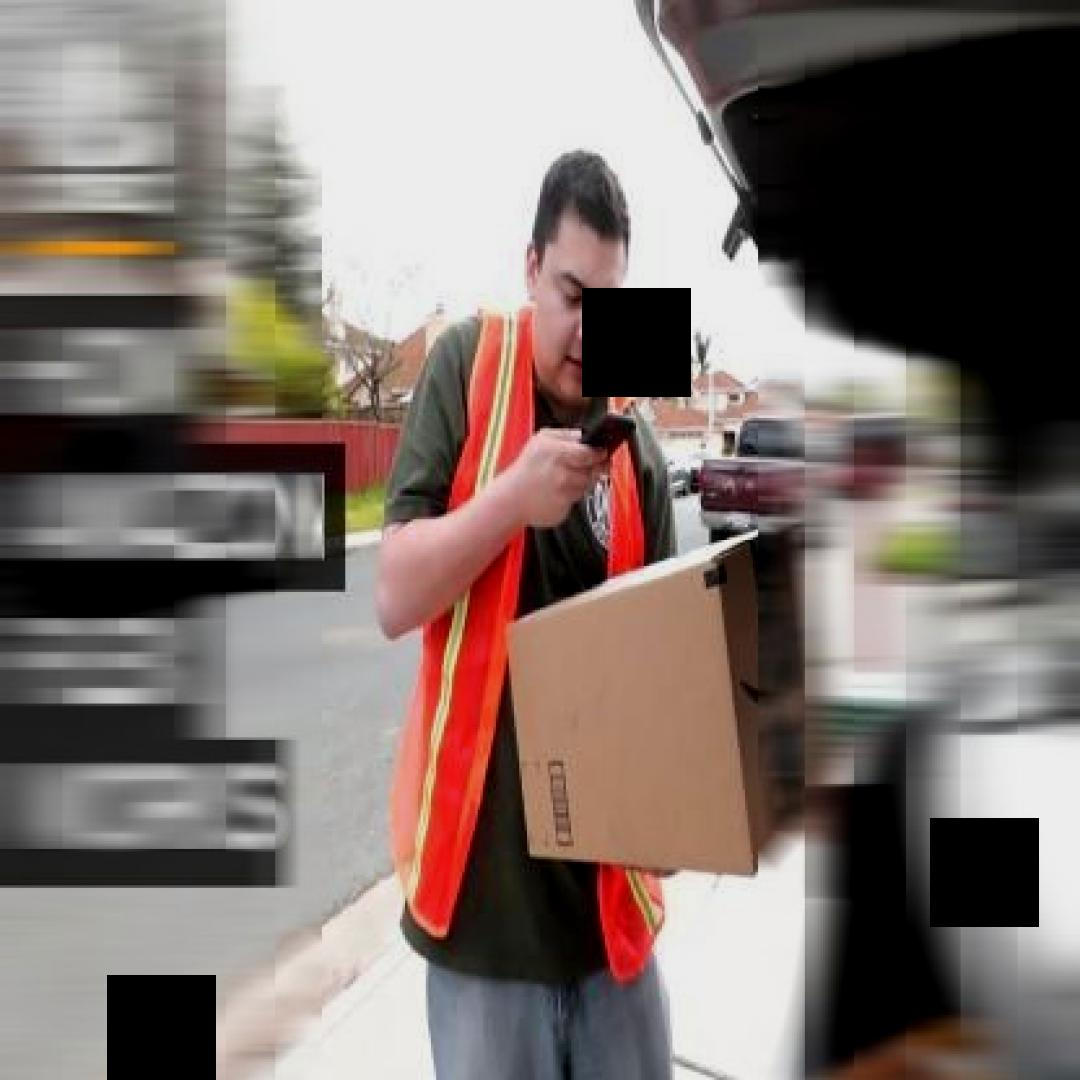package: (503, 514, 836, 883)
